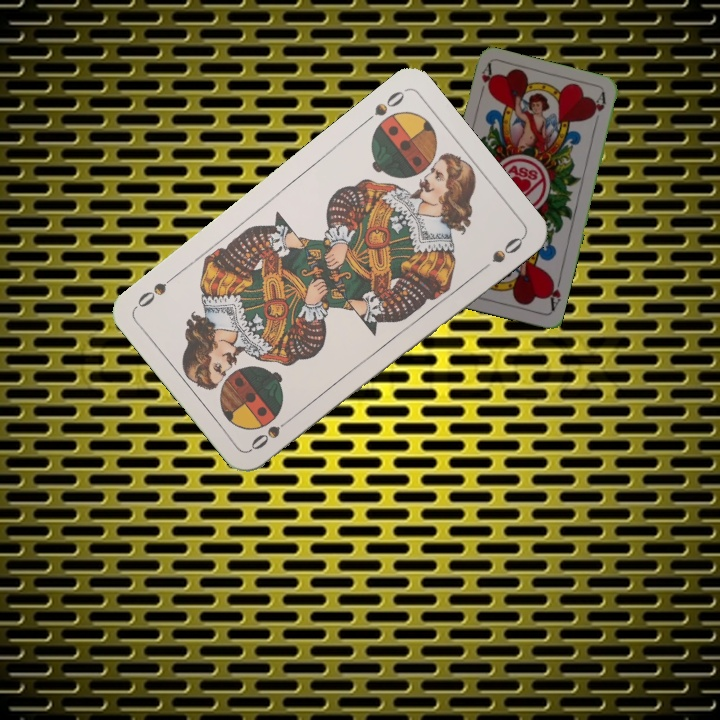HA: (543, 274, 564, 314), (476, 61, 495, 101)
SO: (246, 411, 297, 453), (358, 86, 408, 128)
